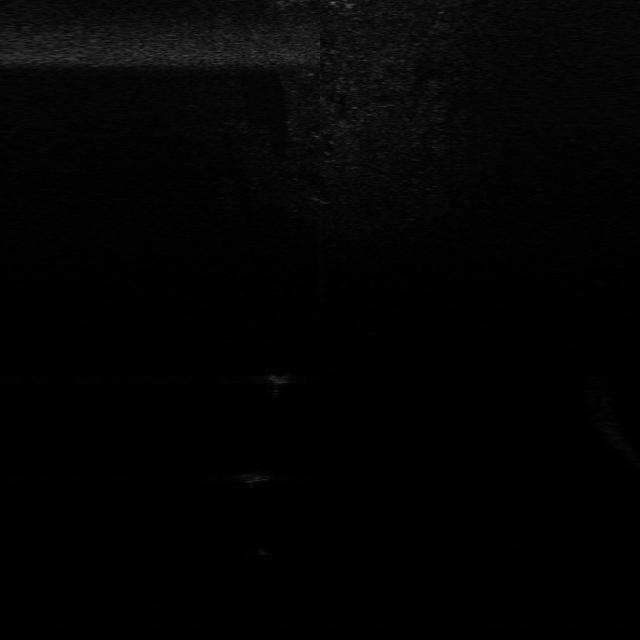cube: (234, 461, 280, 488)
square cage: (264, 366, 298, 392)
